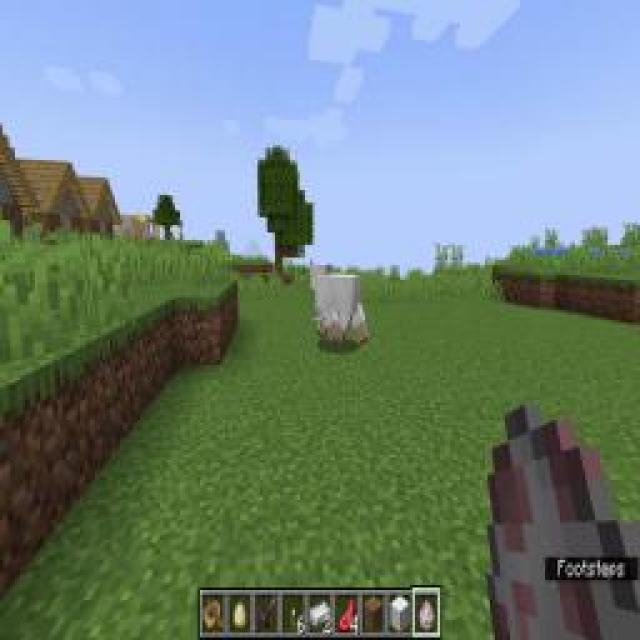Sheep: (309, 260, 371, 352)
